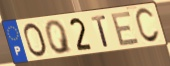2: (70, 17, 94, 52)
C: (134, 6, 161, 45)
E: (110, 10, 141, 48)
O: (23, 22, 49, 59)
Q: (44, 19, 74, 56)
T: (90, 15, 110, 49)
